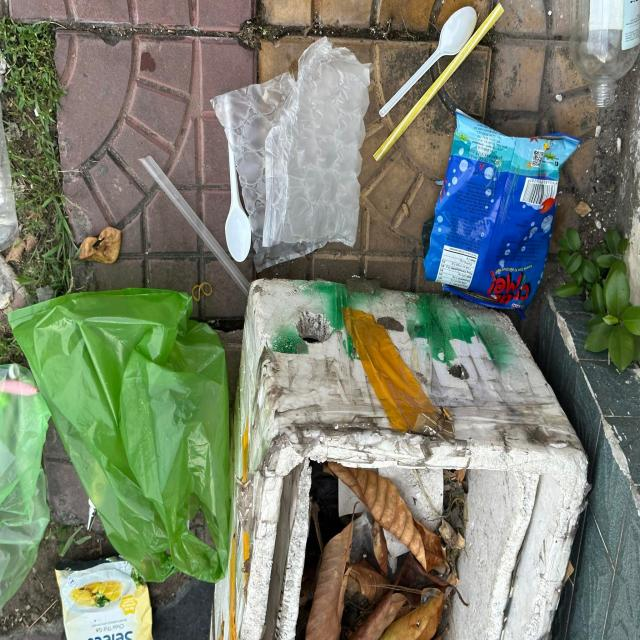bag: (8, 288, 230, 582), (208, 37, 370, 273)
drinking straw: (372, 4, 504, 165), (137, 154, 251, 301)
plastic utensil: (379, 6, 478, 118), (224, 98, 250, 261)
snack package: (424, 110, 578, 310), (56, 561, 152, 640)
